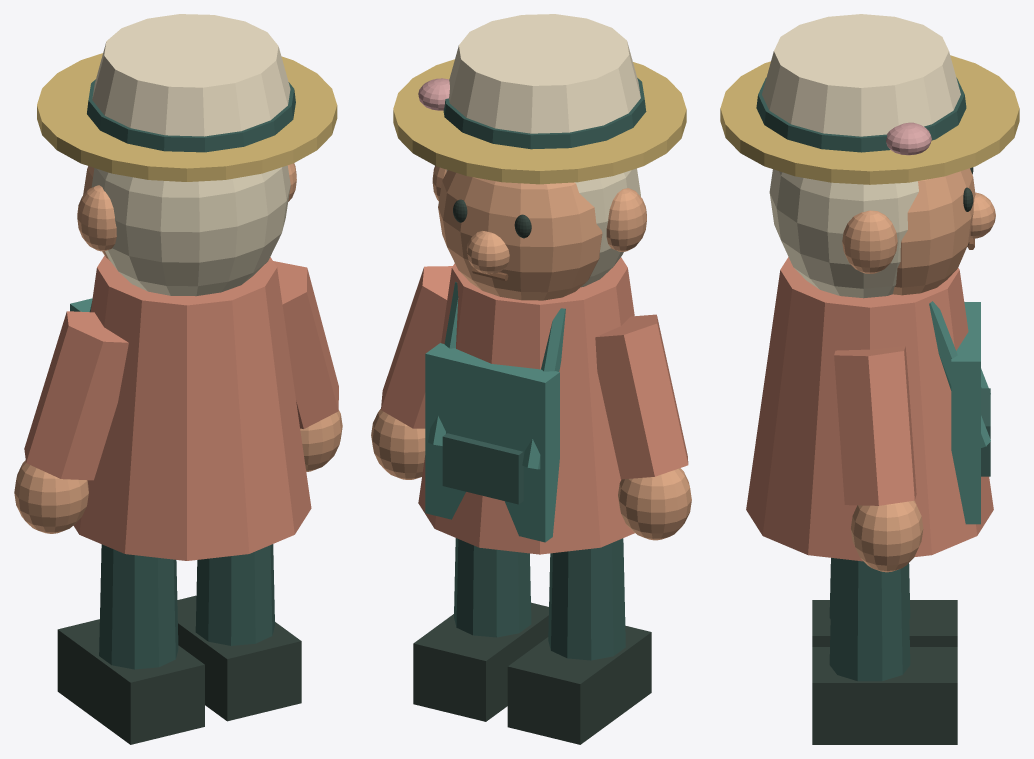
File: garden-keeper.glb
3 views of the same model, side by side, from view 1: azimuth 30°, elevation 25°; view 2: azimuth 150°, elevation 25°; view 3: azimuth 270°, elevation 25° (orthographic). The views are drawn at different scales.
Parts seen in each view (by area): view 1: garden-keeper; view 2: garden-keeper; view 3: garden-keeper.
Part boxes in pixels (<box>): garden-keeper: <box>14,14,342,744</box>; garden-keeper: <box>371,14,691,744</box>; garden-keeper: <box>720,14,1019,744</box>.
Bounding box in the file's own units: 0.86 × 1.68 × 0.7.
